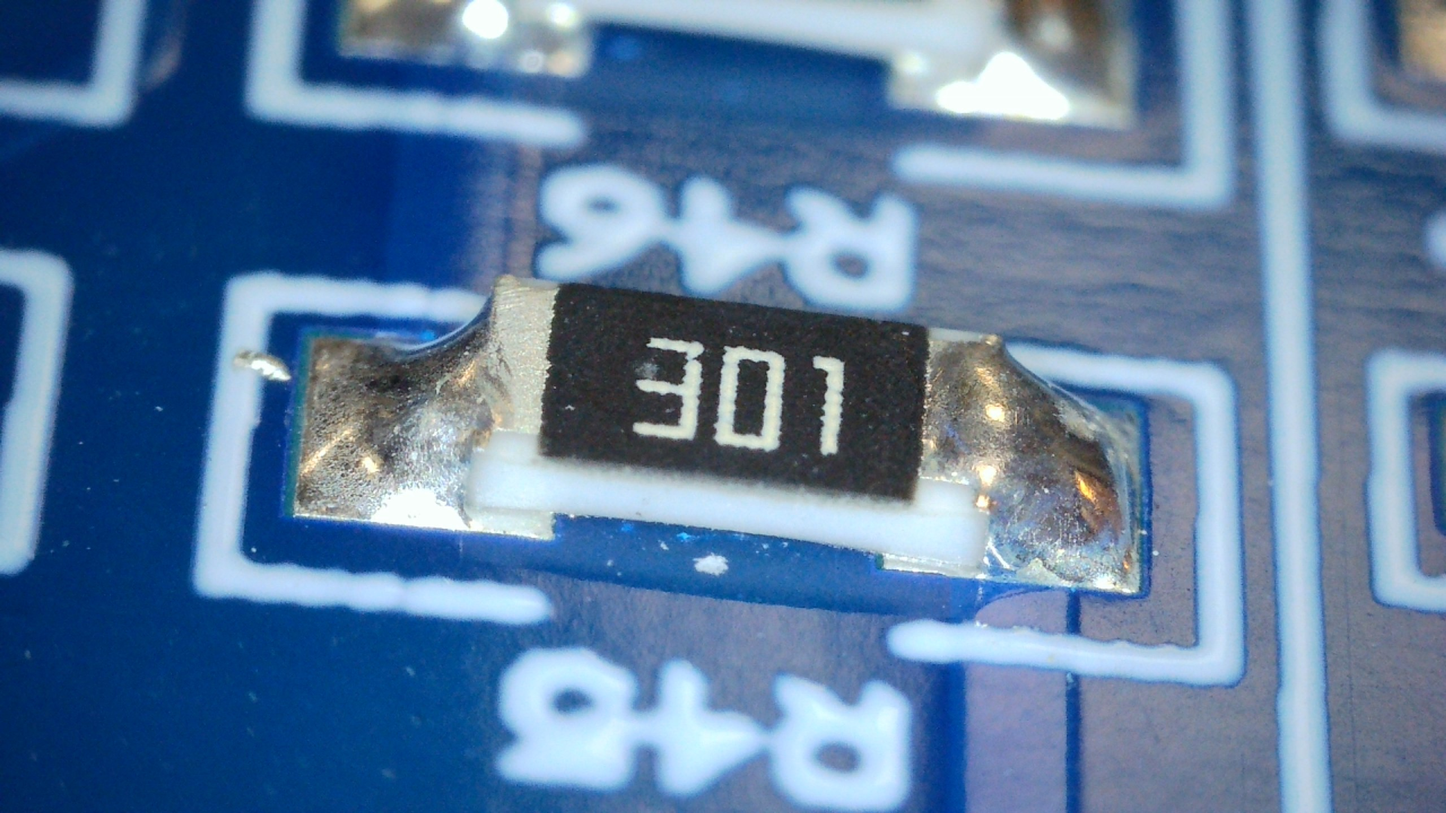NG: (914, 328, 1136, 584)
OK: (296, 278, 554, 510)
